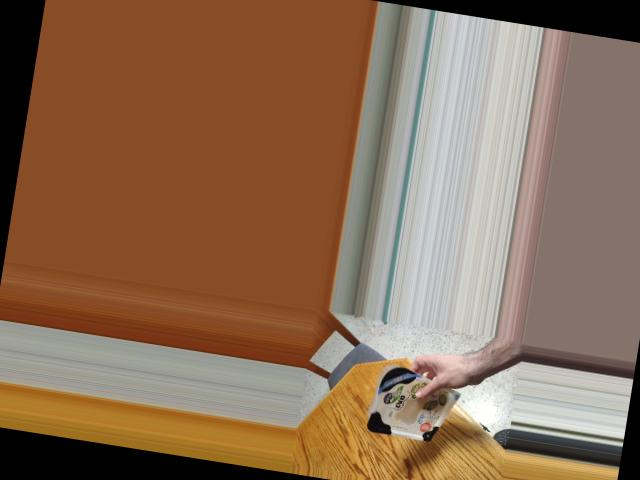cheese: (364, 373, 455, 437)
